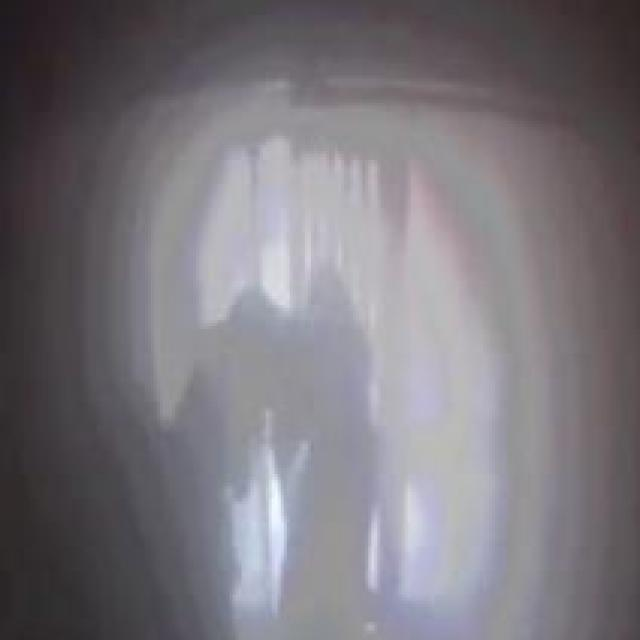fire: (138, 82, 490, 288)
